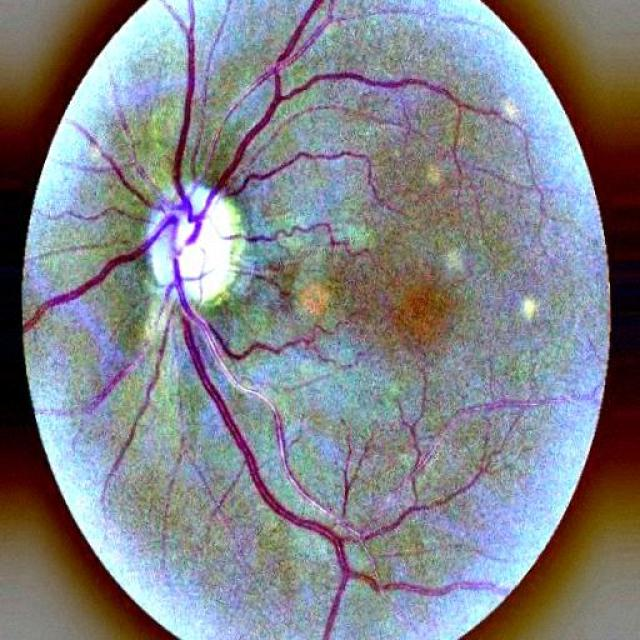Macula: (360, 265, 481, 378)
Nerves: (25, 17, 546, 638)
Optic Disk: (117, 157, 270, 331)
